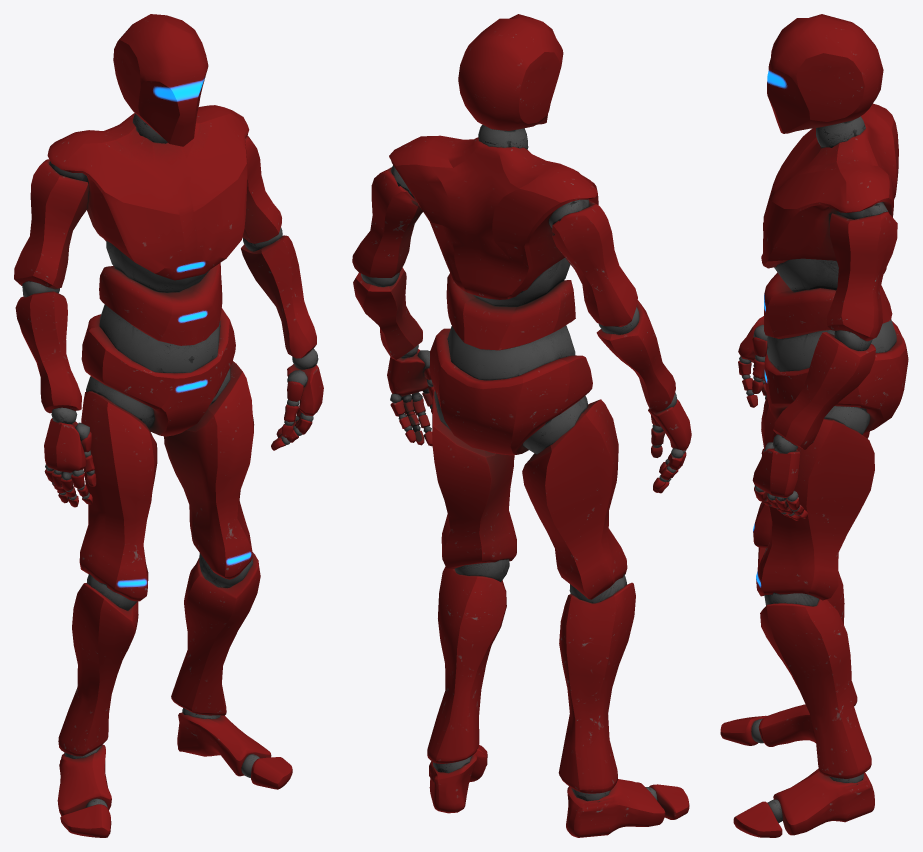
The model's file is Humanoid.fbx.
3 renders of one model, left to right at view 1: azimuth 30°, elevation 25°; view 2: azimuth 150°, elevation 25°; view 3: azimuth 270°, elevation 25°, orthographic. The views are drawn at different scales.
Parts seen in each view (by area): view 1: Humanoid; view 2: Humanoid; view 3: Humanoid.
Boxes of the visible parts, bbox=[...] form: Humanoid: bbox=[14, 14, 323, 837]; Humanoid: bbox=[352, 14, 691, 837]; Humanoid: bbox=[720, 14, 908, 837].
Size of the model in its own units: 73.38 by 190 by 41.66.
